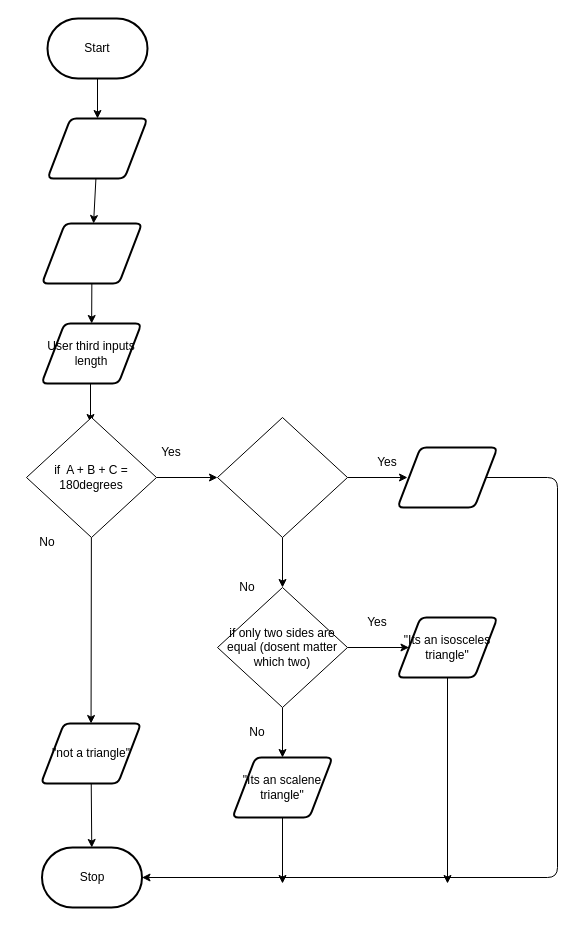
This 583x925 diagram has some shape labels left out. Each missing label, with the centre of its shape:
"It is a equalateril triangle": the point at 447,477
if all sides are equal: the point at 282,477
User first inputs length: the point at 97,148
User second inputs length: the point at 91,253
